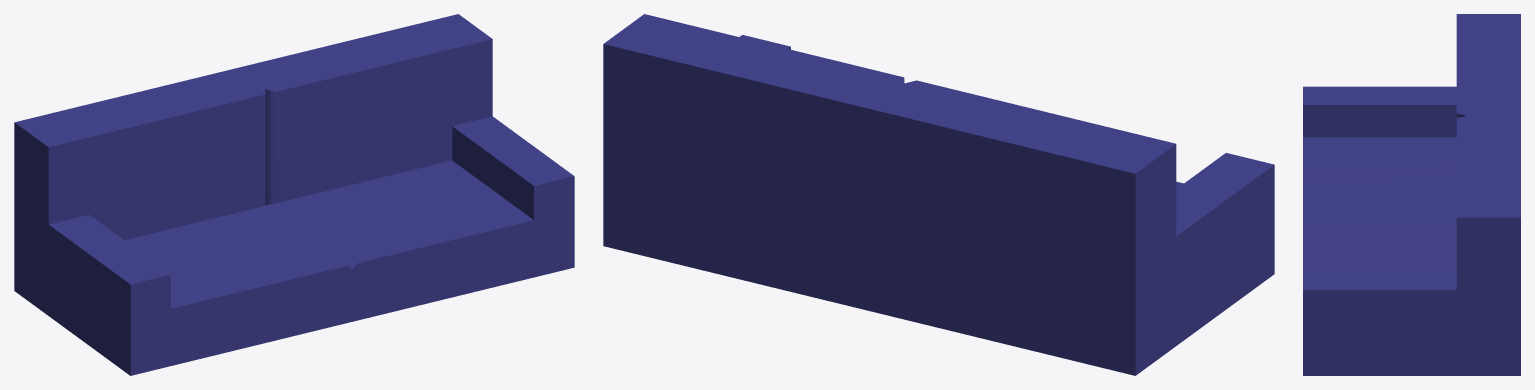
File: Sofa.fbx
3 views of the same model, side by side, from view 1: azimuth 30°, elevation 25°; view 2: azimuth 150°, elevation 25°; view 3: azimuth 270°, elevation 25° (orthographic). The views are drawn at different scales.
Visible parts, largest first — view 1: pCube1; view 2: pCube1; view 3: pCube1.
Part boxes in pixels (x1,y1,x2,y2): pCube1: (14,14,574,375); pCube1: (603,14,1274,375); pCube1: (1303,14,1520,375).
Bounding box in the file's own units: 7.24 × 2.63 × 3.28.
